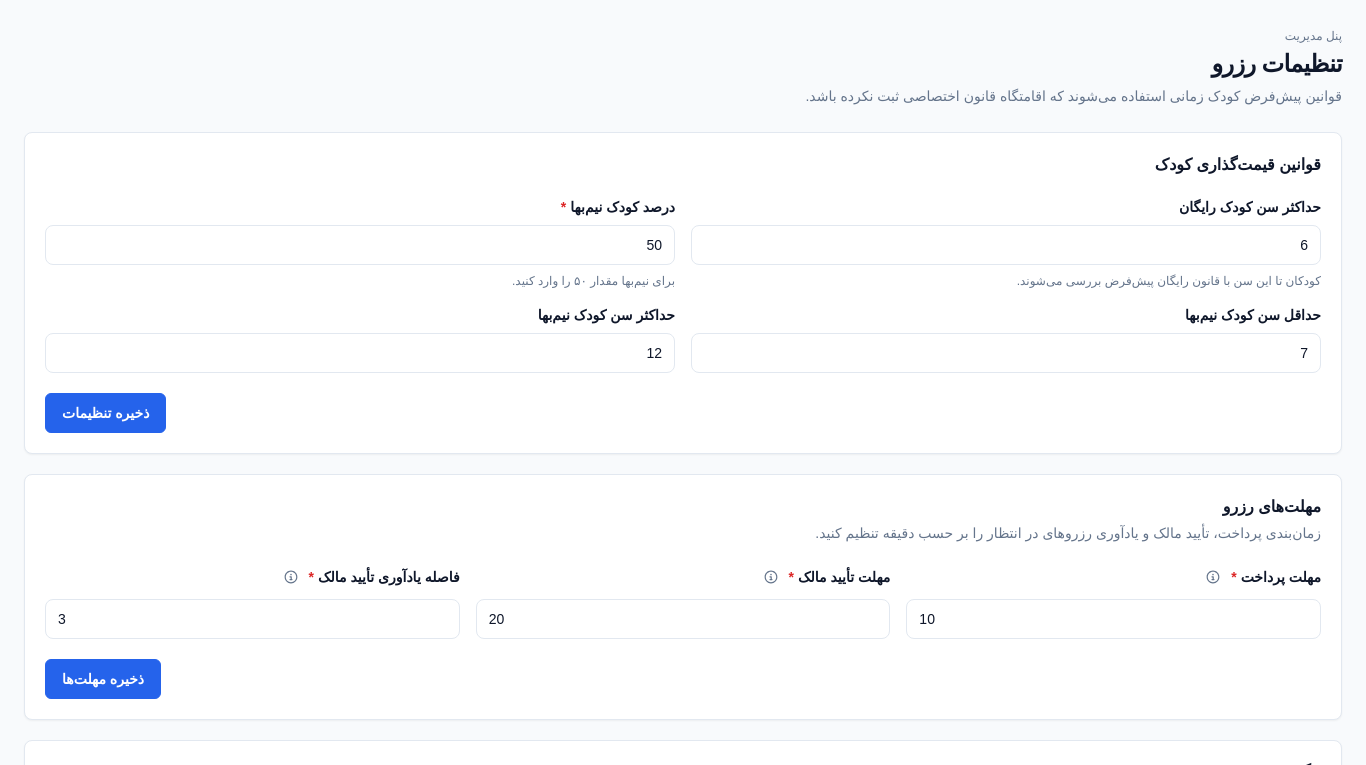
Test: Admin Reservation Settings › rejects invalid deadline value 1.5 near the field
The image size is (1366, 765).
Check: the heading "مهلت‌های رزرو" is shown, box left=1223, top=498, right=1321, bottom=515
Replace the text in the number field labelled "مهلت پرداخت*" with "1.5": {"x": 1114, "y": 619} left=906, top=599, right=1321, bottom=639
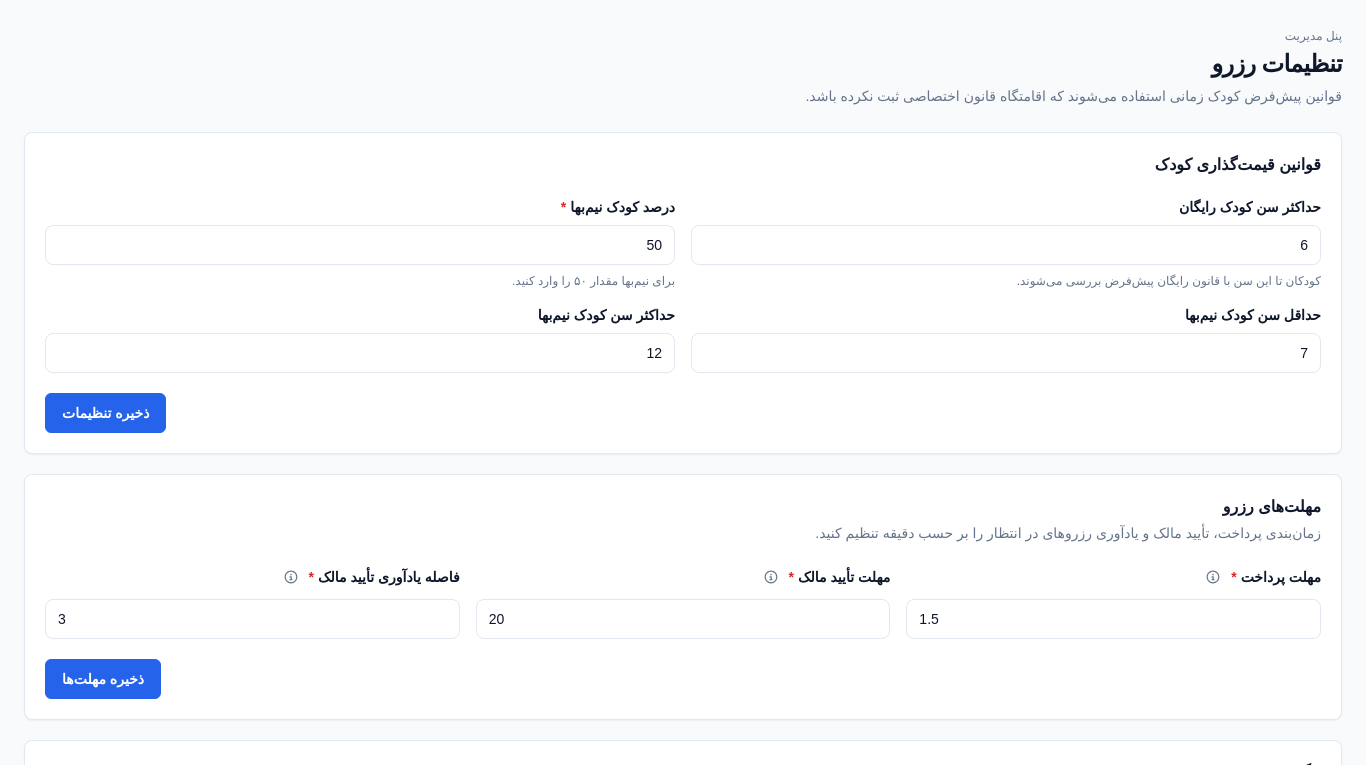
Submit the form named "ذخیره مهلت‌ها", box left=45, top=495, right=1321, bottom=699
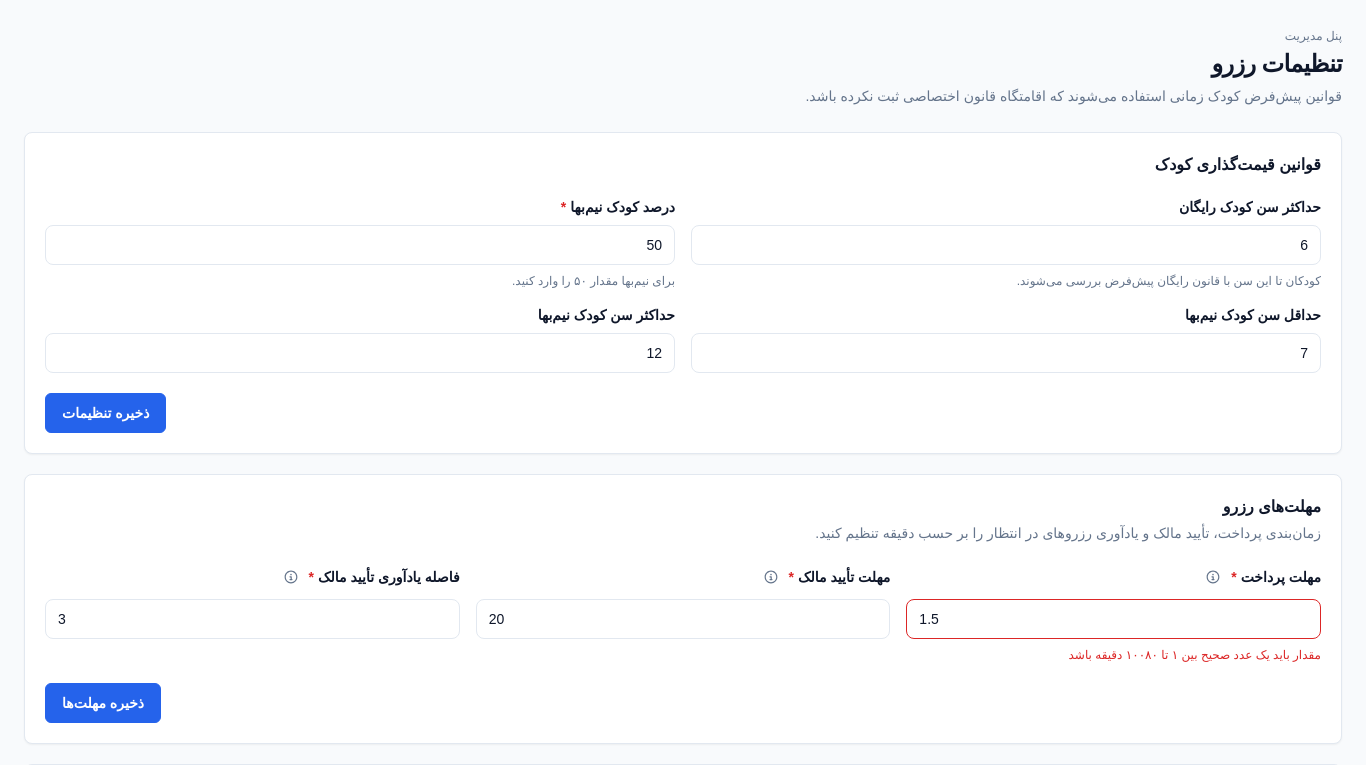
Check: the text "مقدار باید یک عدد صحیح بین ۱ تا ۱۰۰۸۰ دقیقه باشد" is shown, box left=1068, top=648, right=1321, bottom=662
